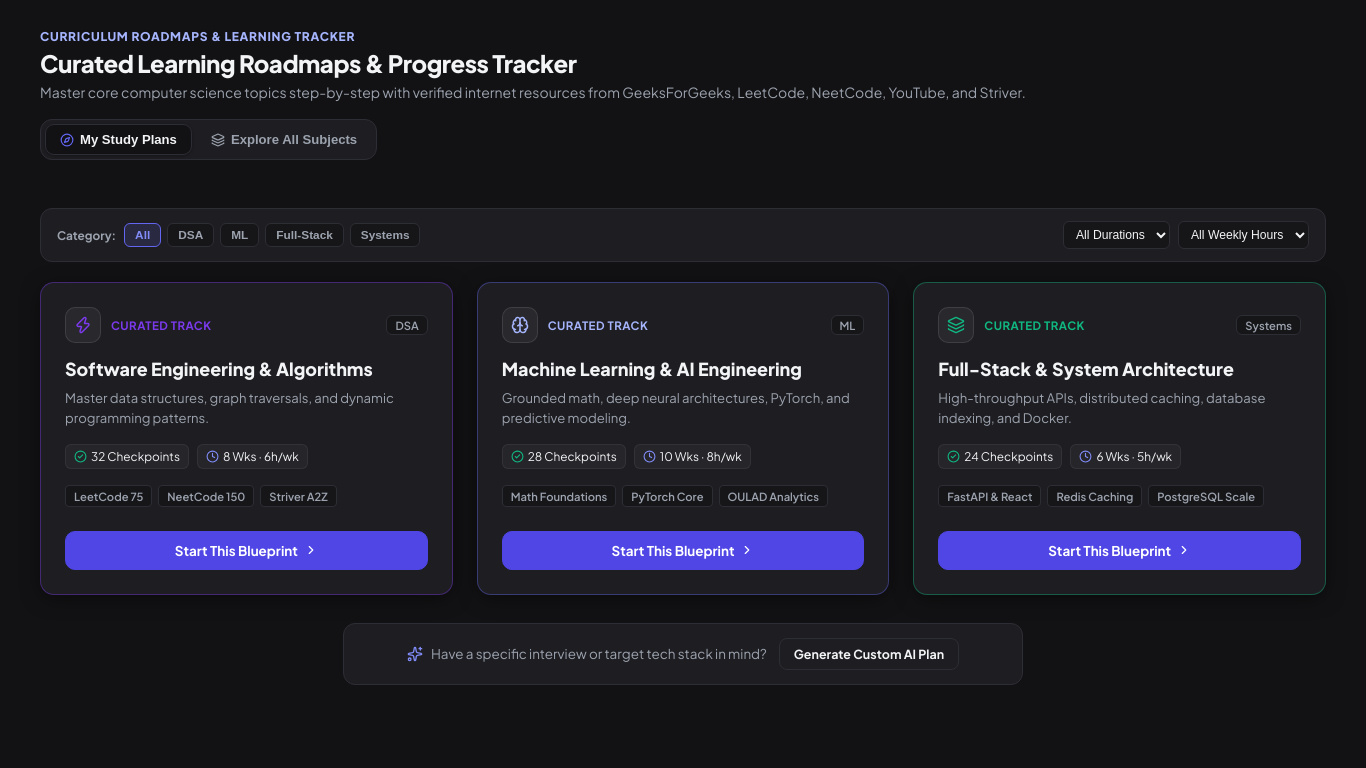
Test: LearnView roadmaps › filters by Algorithms across title, description, stage and topic
The image size is (1366, 768).
Click the button "Explore All Subjects" at (284, 140), box [196,124,372,155]
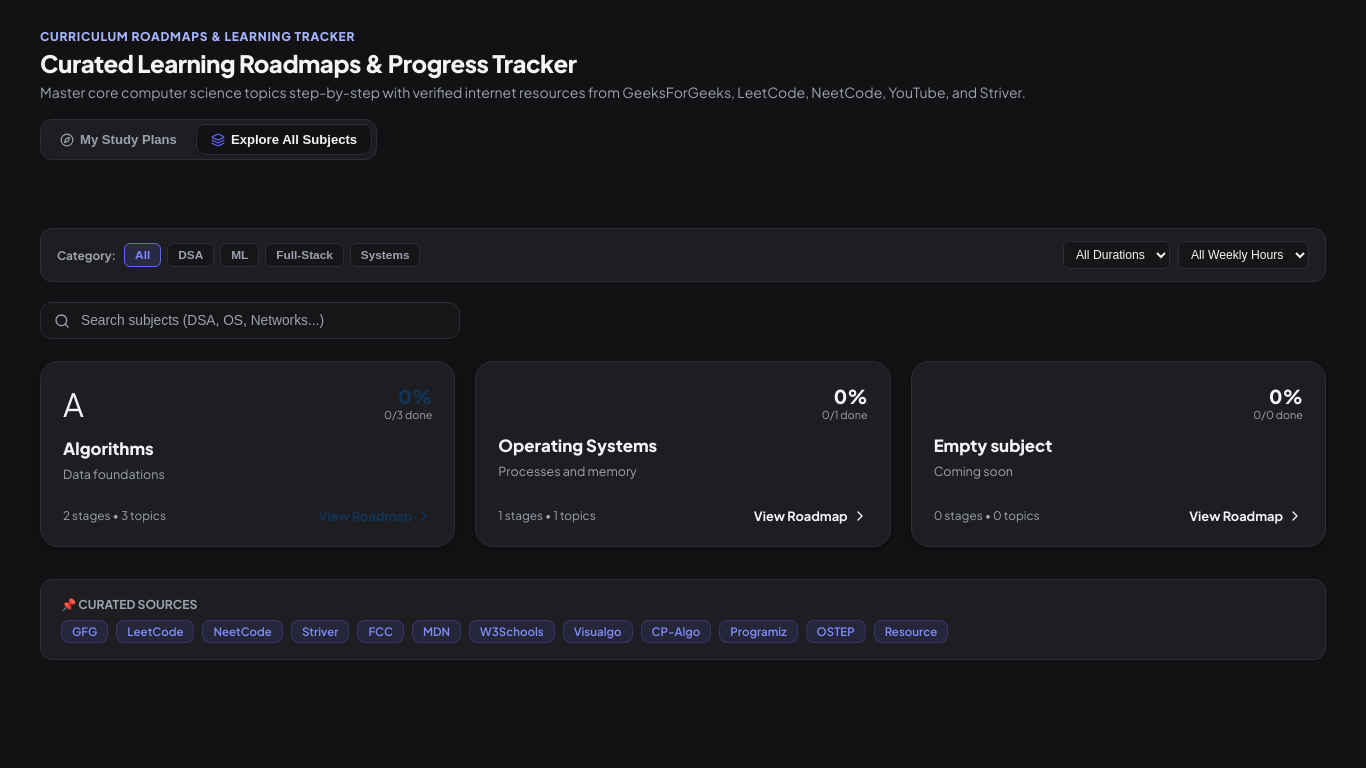
Type "Algorithms" into the field with placeholder "Search subjects (DSA, OS, Networks...)" at (250, 321), box [40,302,460,339]
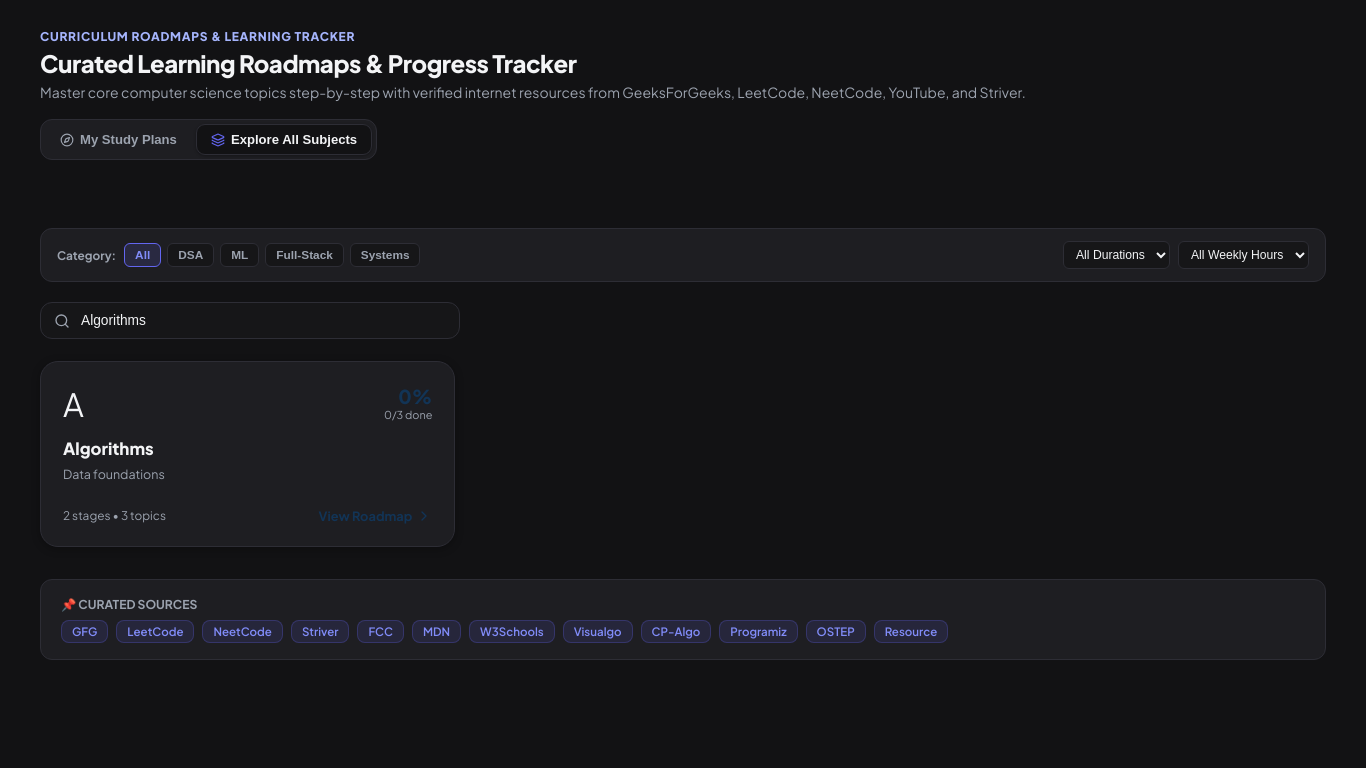
Expected: the heading "Algorithms" is shown, [63,438,154,459]
Result: the heading "Empty subject" is gone
